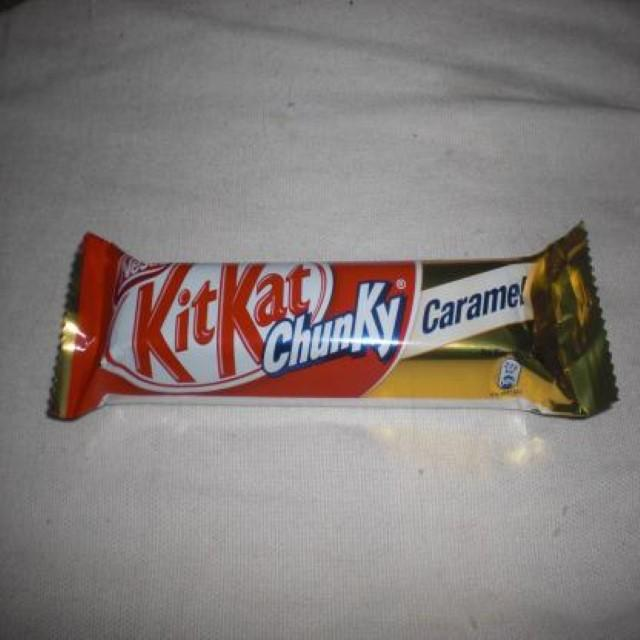kitkat_chocolate: (85, 242, 607, 440)
